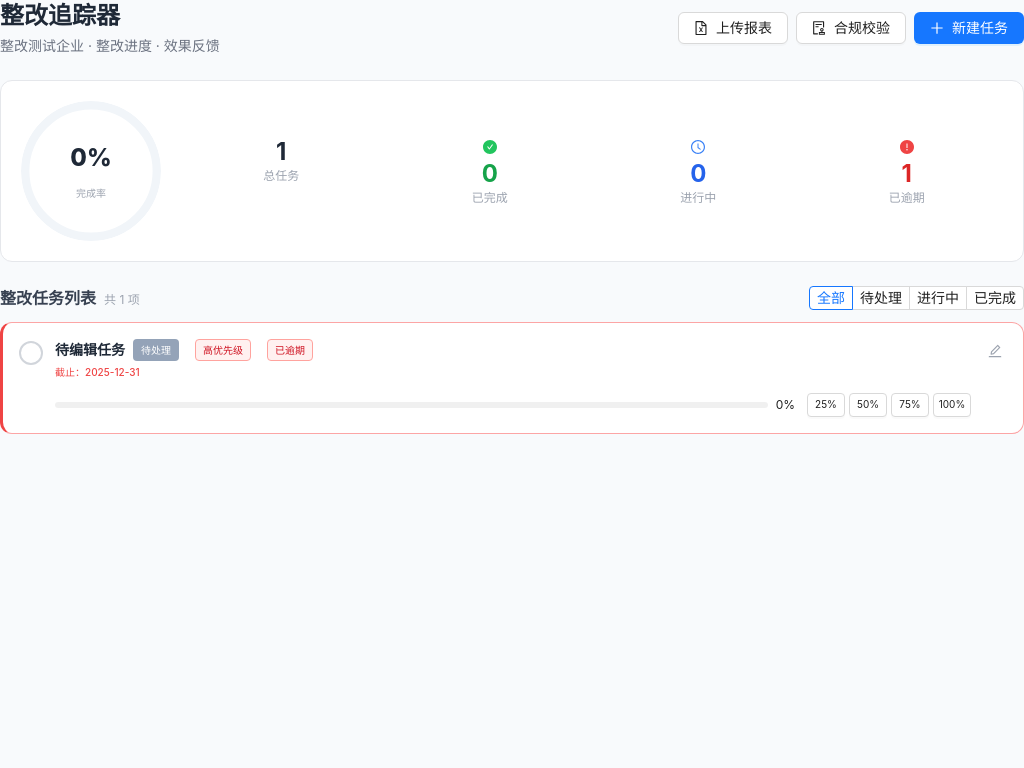
Remediation — 新建/编辑弹窗 › 点击编辑 → 弹窗预填标题
Expected: the button "待编辑任务" is shown, 55,340 -> 125,360
Expected: the icon in the row of "高优先级" is shown, 988,344 -> 1002,358
Click the button without text in the row of "高优先级".
click(995, 351)  # box 983,339 -> 1007,363
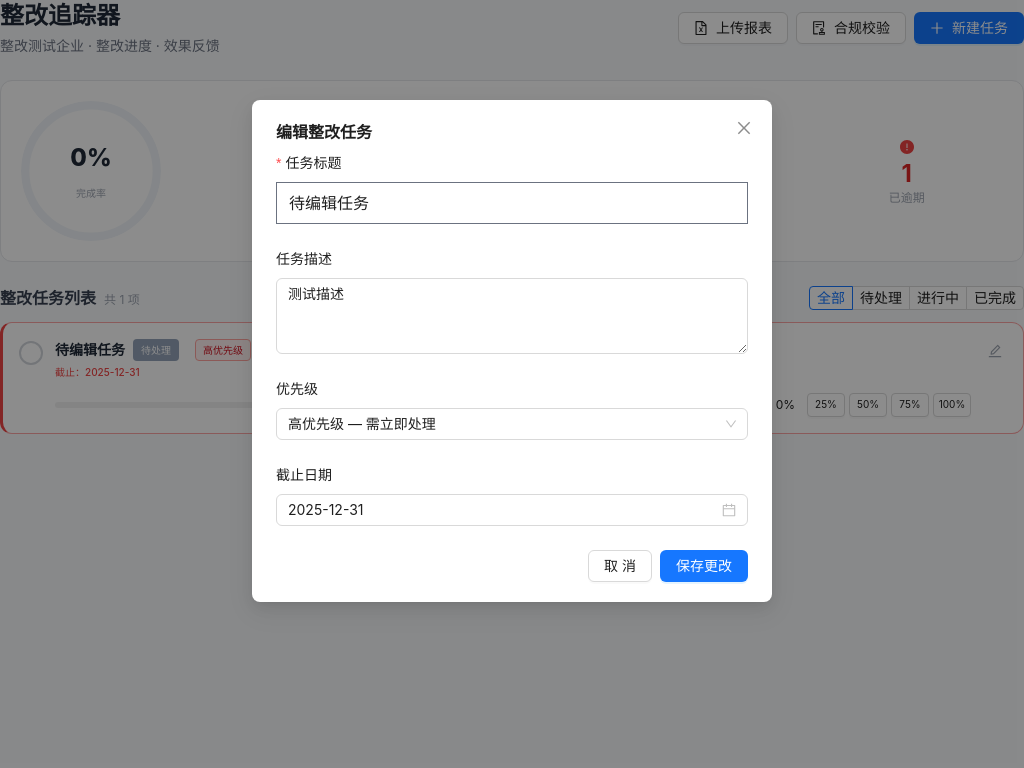
Expected: the text "编辑整改任务" is shown, 276,122 -> 372,142
